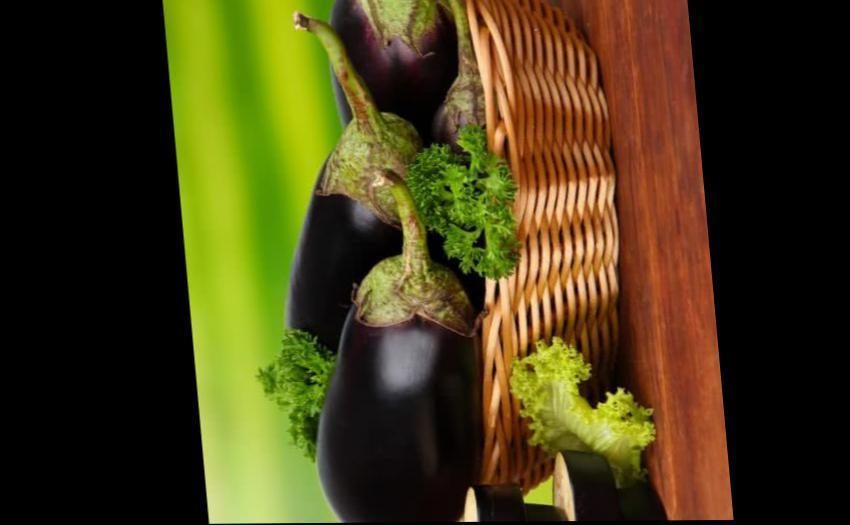eggplant: (253, 0, 486, 523)
